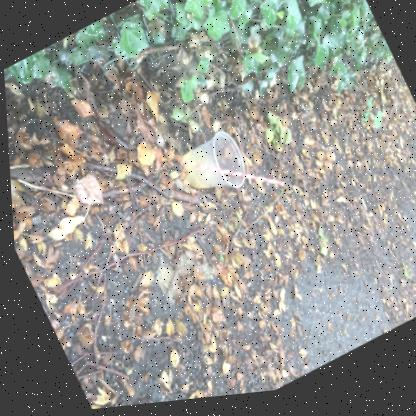Paper: (217, 171, 280, 190)
Plastic: (179, 134, 242, 191)
